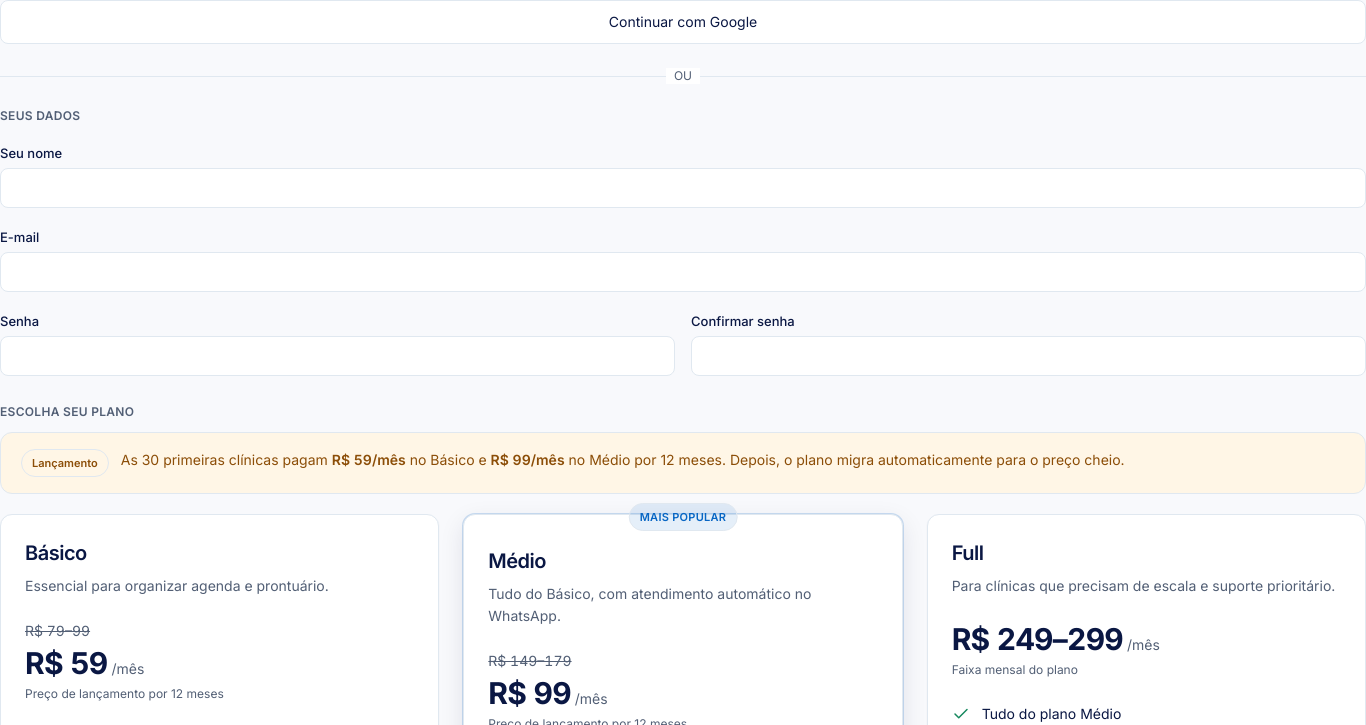
SignupForm (etapa 1) › bloqueia Continuar com Google sem aceite legal
Click the button "Continuar com Google": (683, 22) [0,0,1365,44]
(page scrolled)
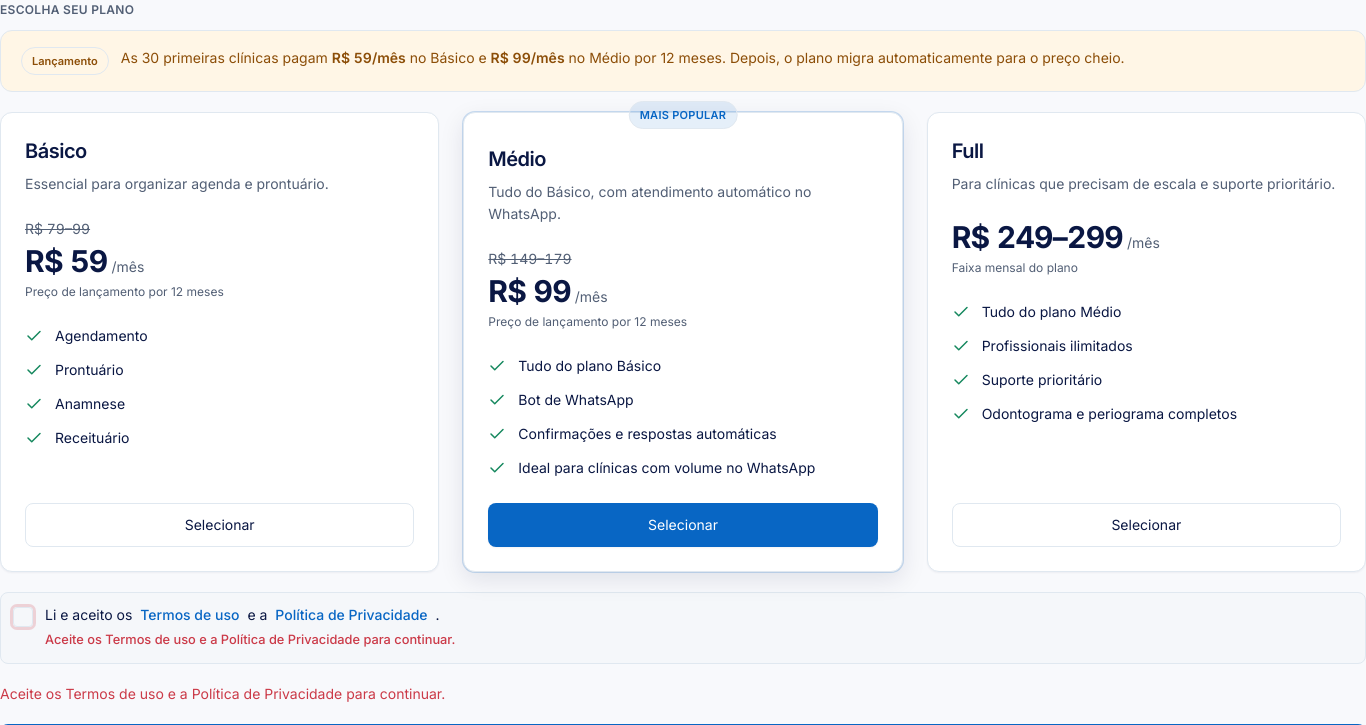
expect the message "Aceite os Termos de uso e a Política de Privacidade para continuar." is shown: met, box [0,685,445,702]
